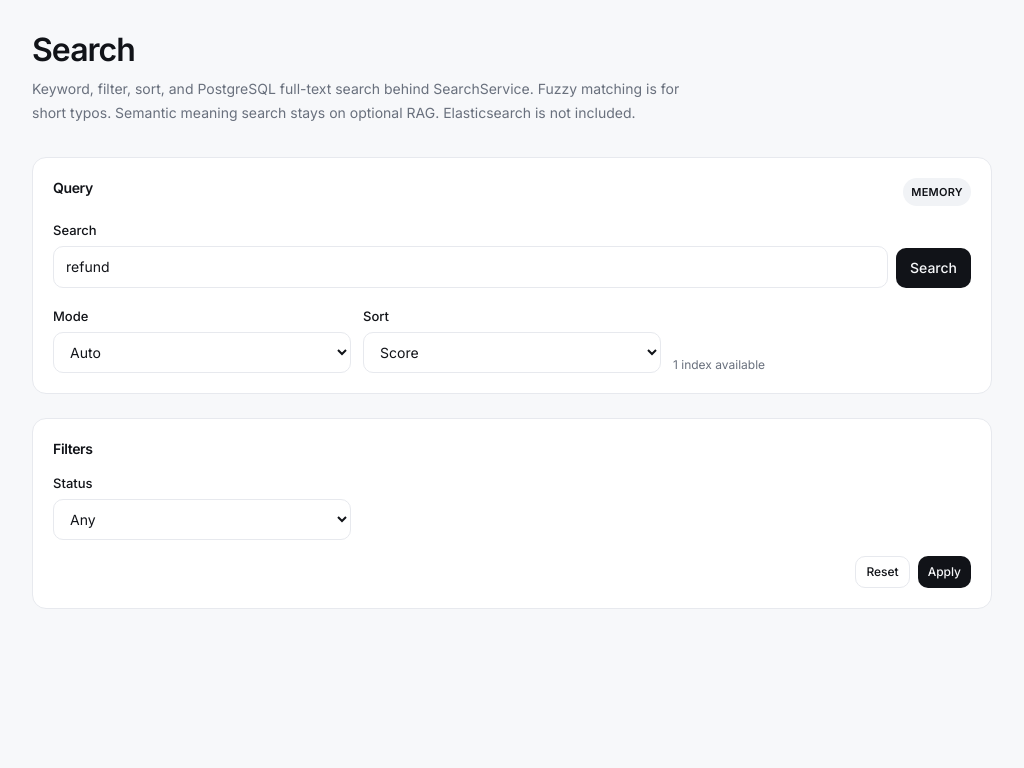
Scenario: SearchPage › loads indexes and searches demo documents
The image size is (1024, 768).
Check: the text "1 index available" is shown, box [673,357,765,372]
Click the button "Search": (934, 268) [896,248,971,288]
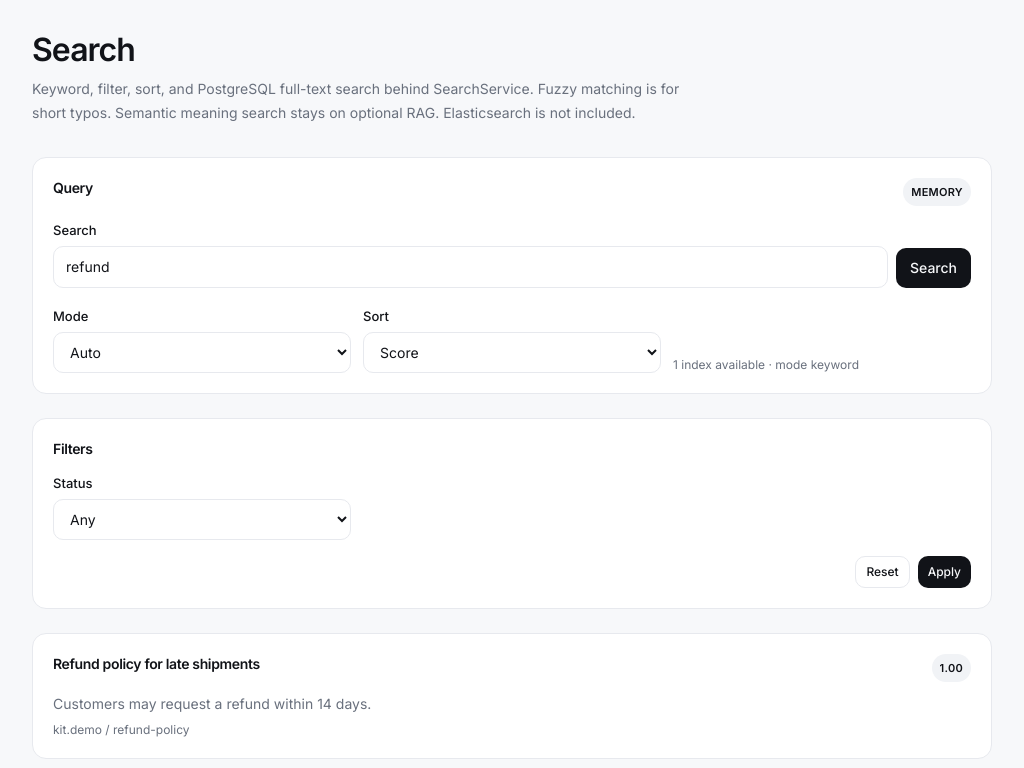
Check: the heading "Refund policy for late shipments" is shown, box [53,654,260,674]
Check: the text "kit.demo / refund-policy" is shown, box [53,722,190,737]
